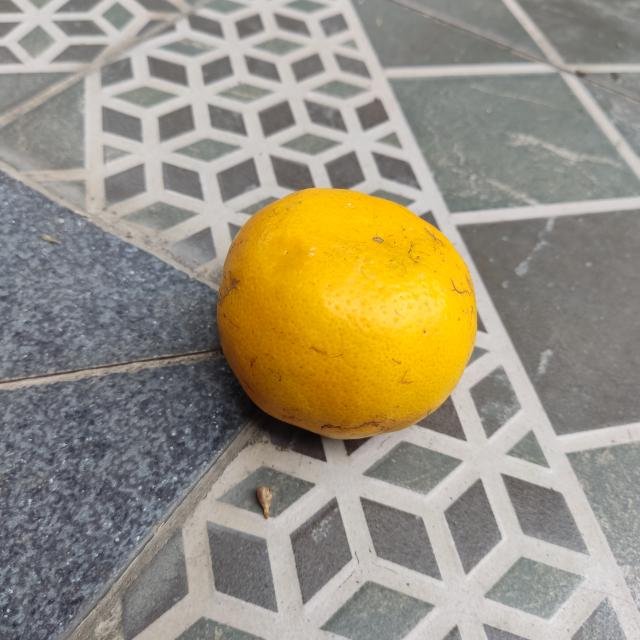orange: (213, 182, 482, 442)
